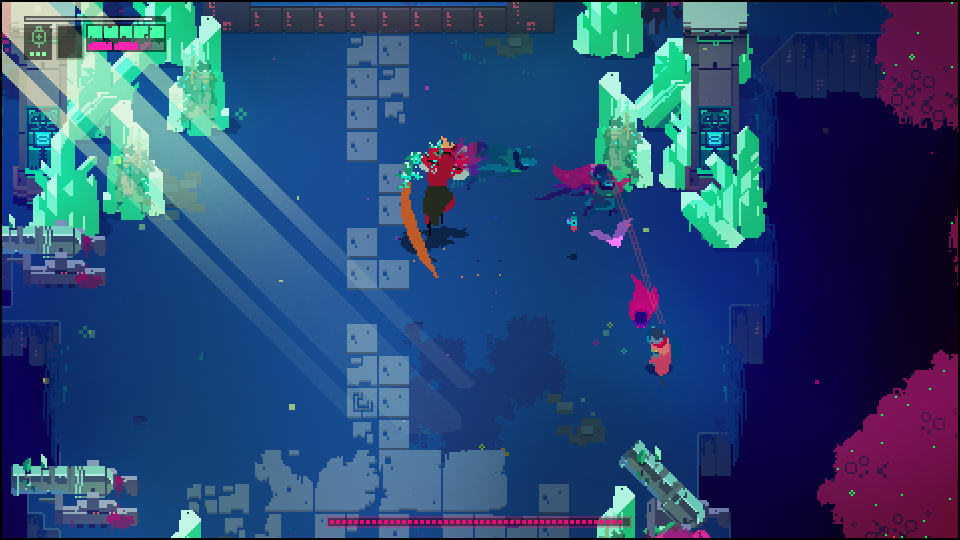hanged_man: (397, 133, 478, 251)
player: (646, 323, 672, 379)
